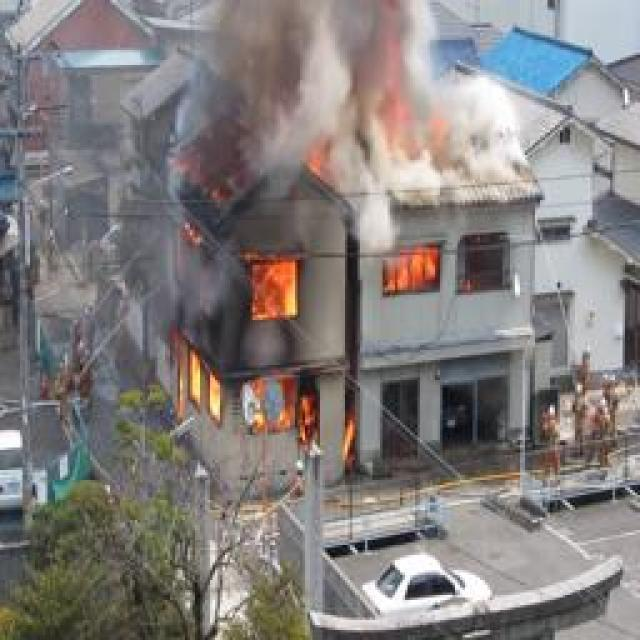fire: (361, 22, 465, 168), (248, 254, 304, 318), (382, 240, 438, 296), (298, 393, 320, 450), (341, 412, 361, 463), (189, 347, 204, 406), (206, 375, 222, 424)
